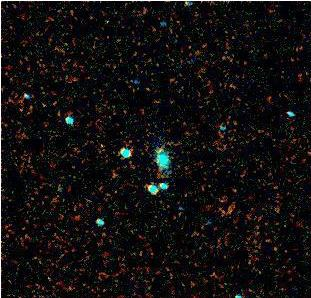star: (144, 133, 174, 163)
